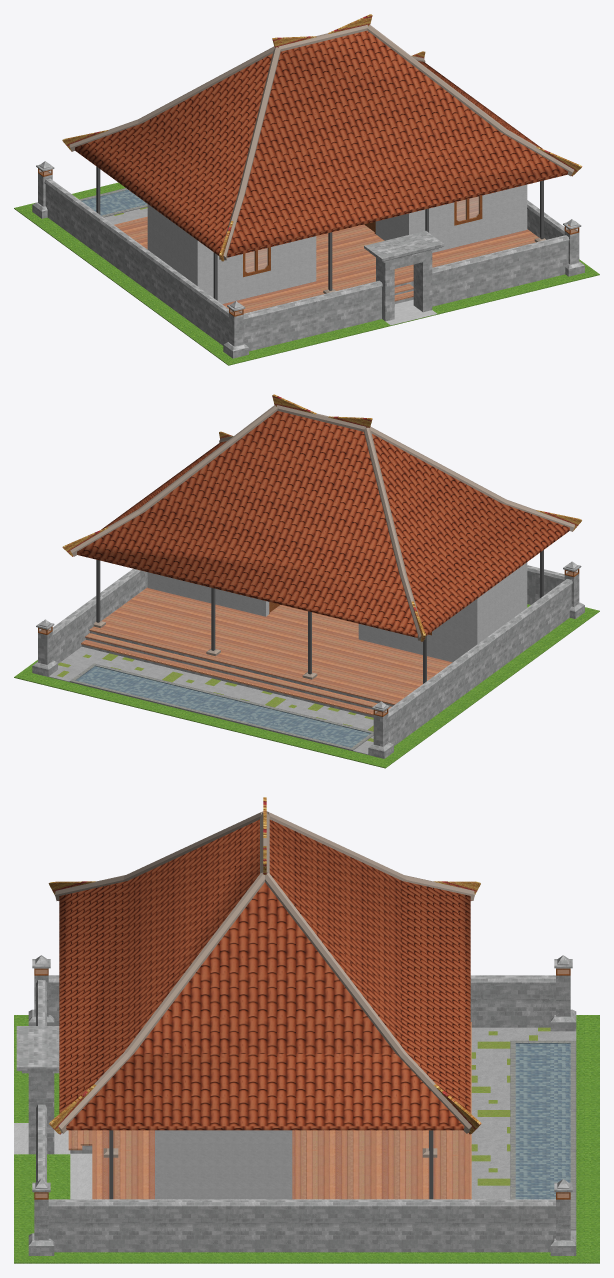
File: Bali House.glb
3 views of the same model, one above another, from view 1: azimuth 30°, elevation 25°; view 2: azimuth 150°, elevation 25°; view 3: azimuth 270°, elevation 25° (orthographic). The views are drawn at different scales.
Visible parts, largest first — view 1: group_7, SketchUp.002, group_6.001, SketchUp.003, group_4, group_0.001, group_5, group_99, group_98, group_96, group_5.003, SketchUp (+4 smaller); view 2: group_7, group_6.001, SketchUp.003, group_0.001, group_4, group_5.003, group_91.001, SketchUp, group_6.002, group_2.002, group_5, group_6.005 (+8 smaller); view 3: group_7, SketchUp, group_0.001, group_6.001, group_5, group_5.003, group_91.001, SketchUp.003, SketchUp.002, group_2.002, group_97, group_99 (+10 smaller).
Part boxes in pixels (<box>): group_7: <box>75,30,568,257</box>; SketchUp.002: <box>243,231,569,351</box>; group_6.001: <box>115,197,538,313</box>; SketchUp.003: <box>44,178,228,345</box>; group_4: <box>147,204,316,304</box>; group_0.001: <box>14,182,599,365</box>; group_5: <box>375,184,527,252</box>; group_99: <box>367,25,506,133</box>; group_98: <box>237,47,280,196</box>; group_96: <box>137,46,274,124</box>; group_5.003: <box>82,190,147,215</box>; SketchUp: <box>527,200,566,239</box>; group_7: <box>77,411,569,637</box>; group_6.001: <box>89,587,452,704</box>; SketchUp.003: <box>386,579,572,745</box>; group_0.001: <box>14,604,599,768</box>; group_4: <box>358,562,527,662</box>; group_5.003: <box>76,666,370,747</box>; group_91.001: <box>48,646,373,754</box>; SketchUp: <box>50,568,147,663</box>; group_6.002: <box>81,631,393,717</box>; group_2.002: <box>69,663,373,751</box>; group_5: <box>147,572,269,616</box>; group_6.005: <box>81,640,376,715</box>; group_7: <box>59,819,470,1130</box>; SketchUp: <box>48,1199,555,1252</box>; group_0.001: <box>14,1015,599,1263</box>; group_6.001: <box>92,1130,448,1199</box>; group_5: <box>155,1130,292,1199</box>; group_5.003: <box>515,1044,570,1199</box>; group_91.001: <box>471,1027,576,1234</box>; SketchUp.003: <box>48,975,555,1027</box>; SketchUp.002: <box>16,980,59,1182</box>; group_2.002: <box>510,1040,576,1230</box>; group_97: <box>265,873,405,1056</box>; group_99: <box>124,873,264,1056</box>.
Size of what is drawn, in the model's own units: 16 by 9.36 by 16.
17 materials, 14 textured.
